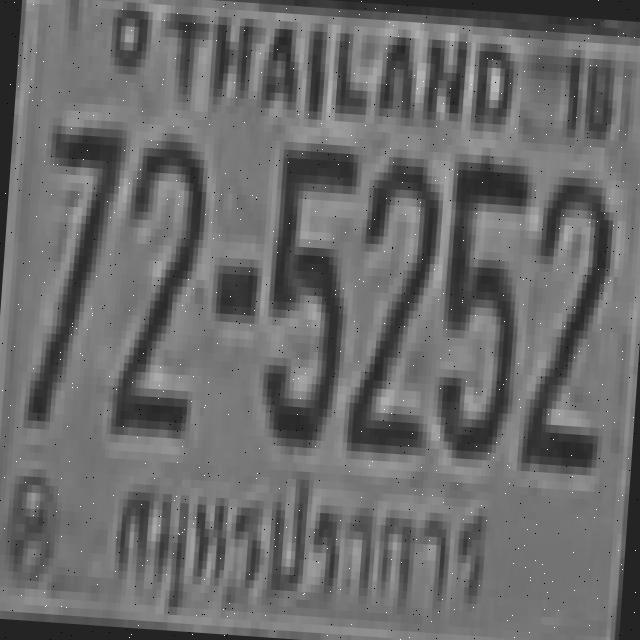2: (110, 122, 206, 430), (344, 147, 440, 447), (522, 163, 612, 463)
5: (255, 132, 355, 442), (430, 144, 530, 453)
7: (23, 112, 123, 421)
SamutPrakan: (106, 476, 501, 634)
